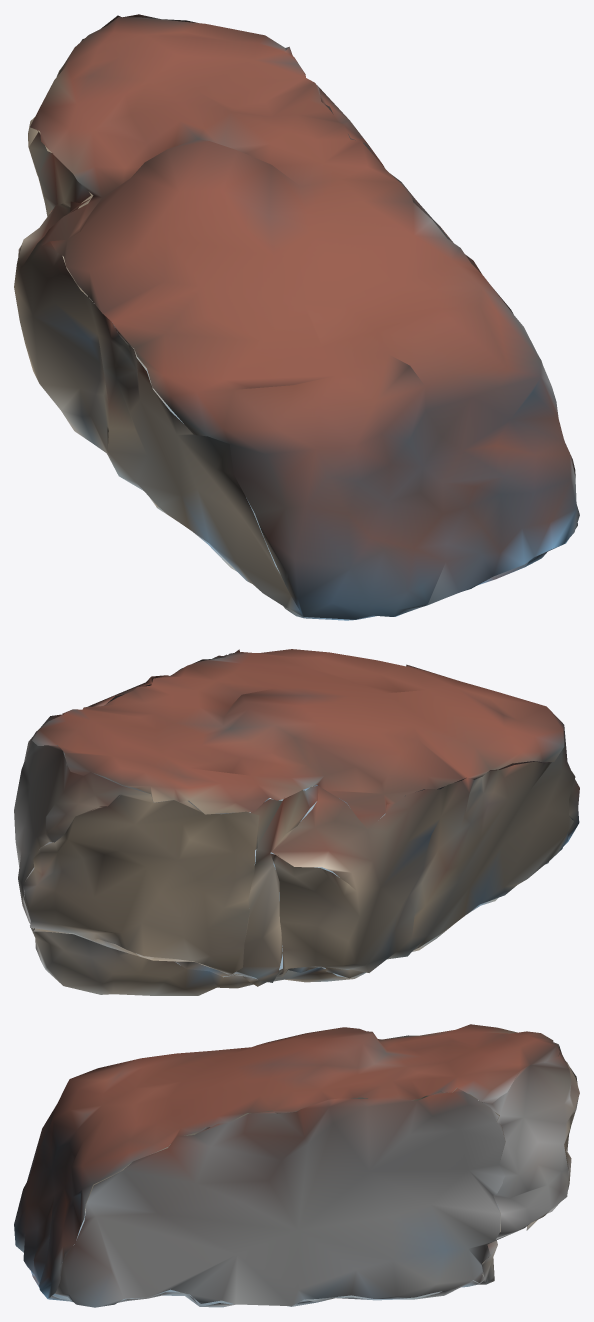
Rendered from rock_07.fbx.
3 renders of one model, top to bottom at view 1: azimuth 30°, elevation 25°; view 2: azimuth 150°, elevation 25°; view 3: azimuth 270°, elevation 25°, orthographic. The views are drawn at different scales.
Parts seen in each view (by area): view 1: Model; view 2: Model; view 3: Model.
Boxes of the visible parts, x1,y1,x2,y2 form: Model: (14,14,579,620); Model: (14,649,579,995); Model: (14,1024,579,1307).
Bounding box in the file's own units: 0.1697 × 0.1429 × 0.3208.
